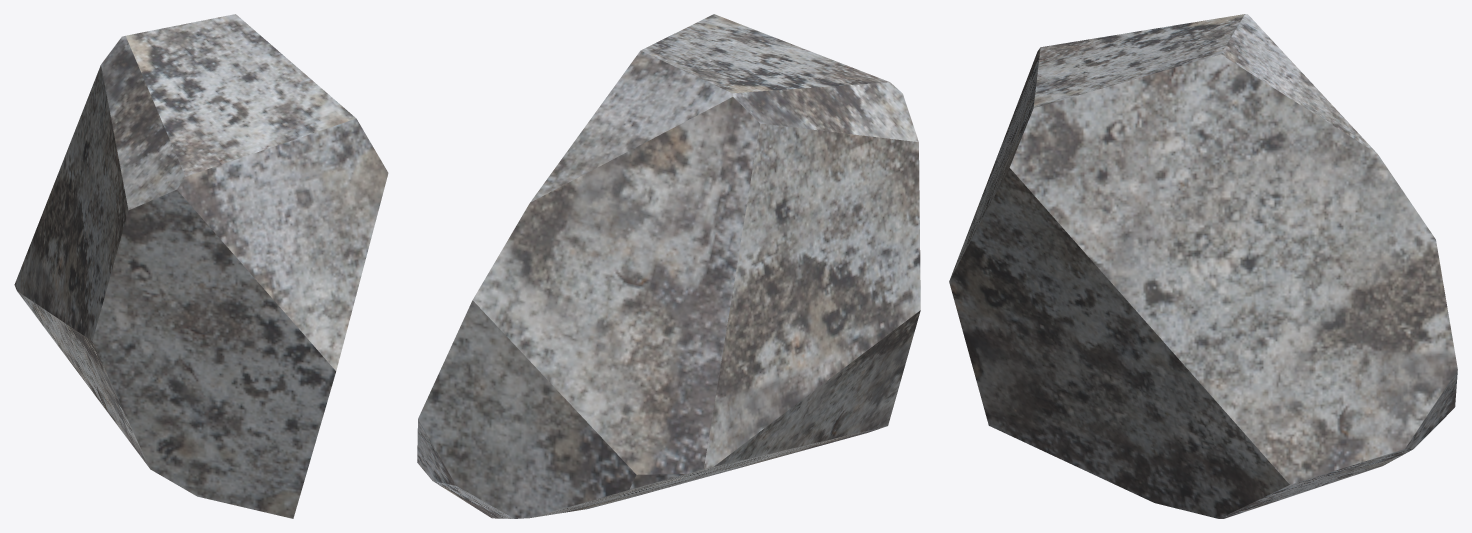
Rendered from Asteroid_Large_001_02_009_03_026.fbx.
3 views of the same model, side by side, from view 1: azimuth 30°, elevation 25°; view 2: azimuth 150°, elevation 25°; view 3: azimuth 270°, elevation 25° (orthographic). The views are drawn at different scales.
Parts seen in each view (by area): view 1: Asteroid_Large_001_02_009_03_026; view 2: Asteroid_Large_001_02_009_03_026; view 3: Asteroid_Large_001_02_009_03_026.
Boxes of the visible parts, x1=… form: Asteroid_Large_001_02_009_03_026: x1=14, y1=14, x2=388, y2=518; Asteroid_Large_001_02_009_03_026: x1=417, y1=14, x2=920, y2=518; Asteroid_Large_001_02_009_03_026: x1=949, y1=14, x2=1457, y2=518.
Size of the model in its own units: 8.94 by 11.31 by 11.94.
